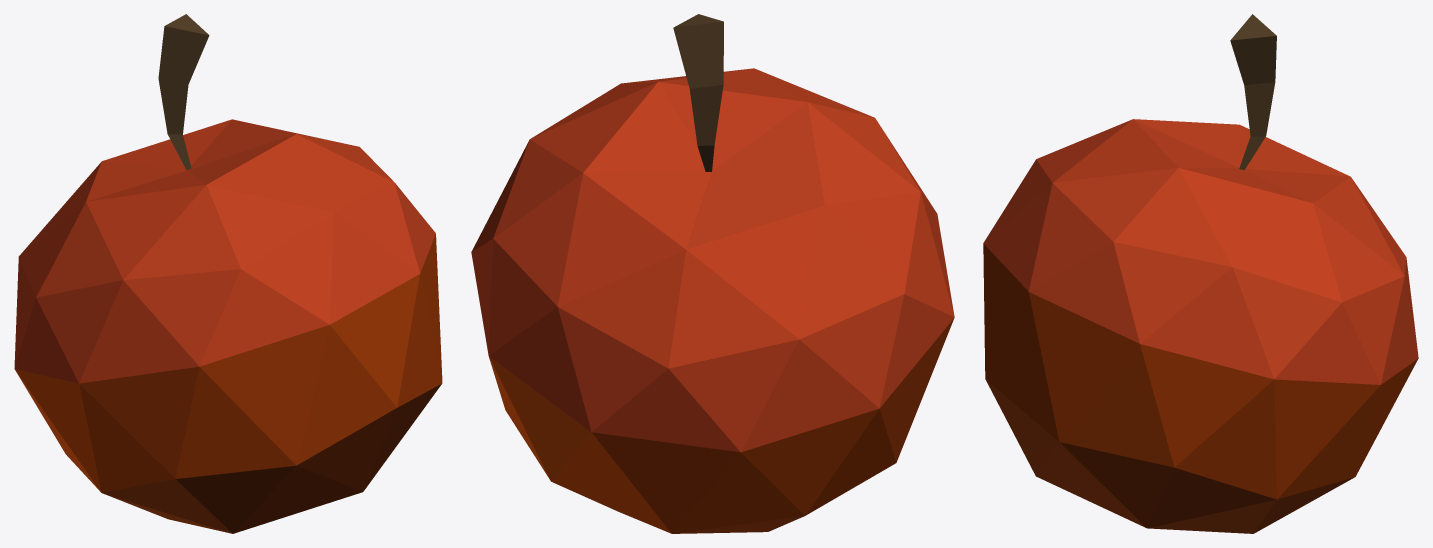
The model's file is Apple.fbx.
The picture shows the model from 3 angles, left to right: view 1: azimuth 30°, elevation 25°; view 2: azimuth 150°, elevation 25°; view 3: azimuth 270°, elevation 25°; orthographic projection. The views are drawn at different scales.
Parts seen in each view (by area): view 1: Ball; view 2: Ball; view 3: Ball.
Part boxes in pixels (left/top/right/bottom): Ball: left=14, top=14, right=442, bottom=533; Ball: left=471, top=14, right=954, bottom=533; Ball: left=983, top=14, right=1418, bottom=533.
Bounding box in the file's own units: 95.37 × 117 × 96.15.
